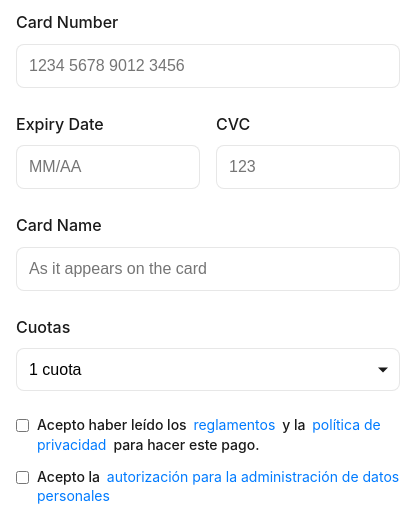
Test: CardPaymentForm › detecta correctamente el tipo de tarjeta Mastercard
The width and height of the screenshot is (417, 521).
In the field with id "cardNumber": (208, 66) [16,44,400,88], type "5111111111111111"
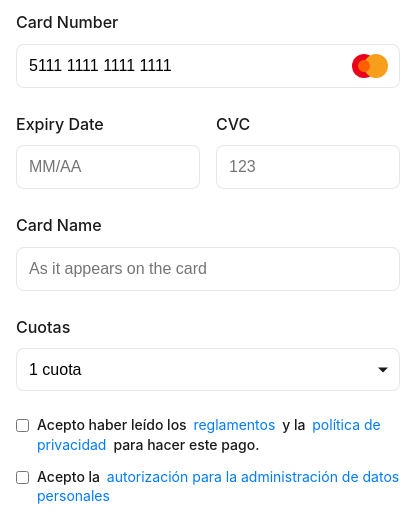
Result: the picture named "Mastercard" is shown at [352,54,388,78]
